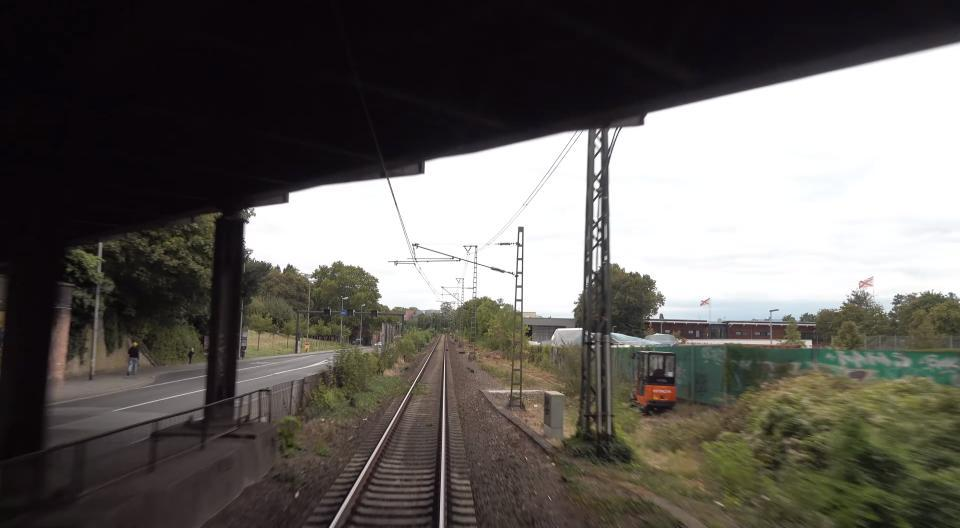Plant: (304, 351, 428, 428), (276, 416, 302, 457), (312, 444, 329, 457), (414, 380, 428, 395)
